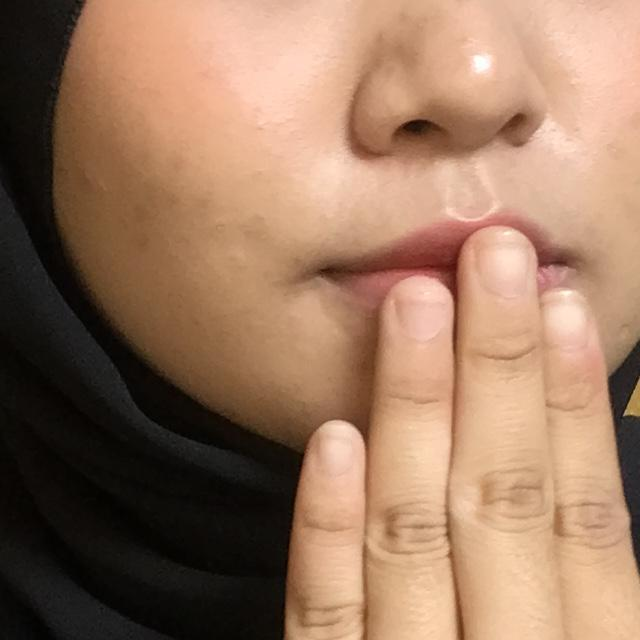ganteng: (250, 176, 640, 640)
